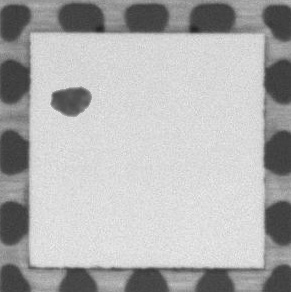DIE_INK: (49, 84, 95, 119)
